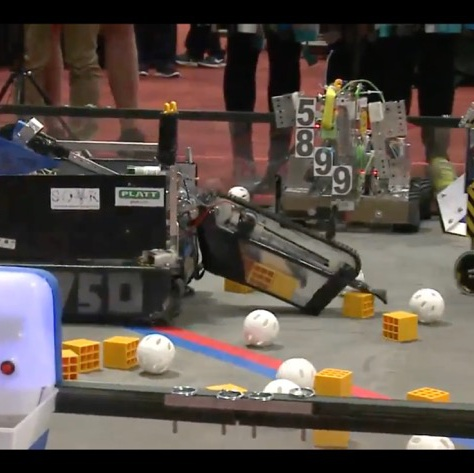robot: (0, 105, 393, 326), (270, 33, 436, 236)
